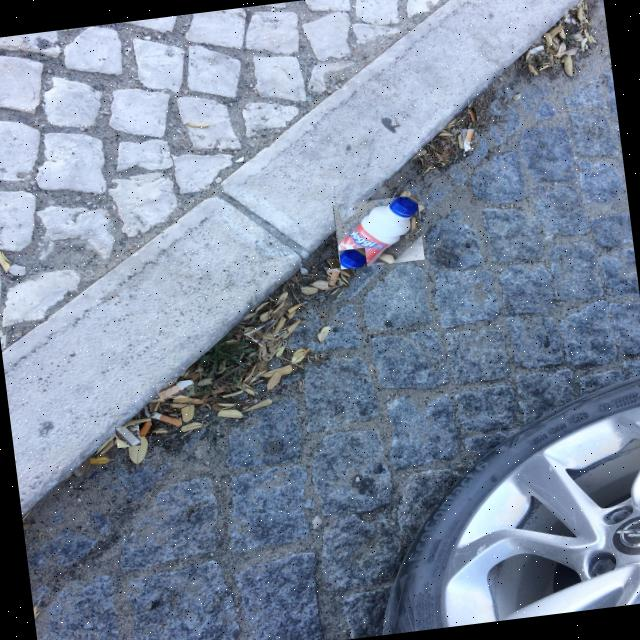Cigarette: (158, 379, 193, 400), (115, 427, 141, 446), (151, 411, 181, 426), (136, 420, 154, 436), (464, 129, 475, 151), (329, 267, 340, 286), (468, 107, 477, 122), (530, 45, 544, 54)
Other plastic container: (338, 196, 418, 266)
Plastic bottle cap: (339, 249, 366, 267)
